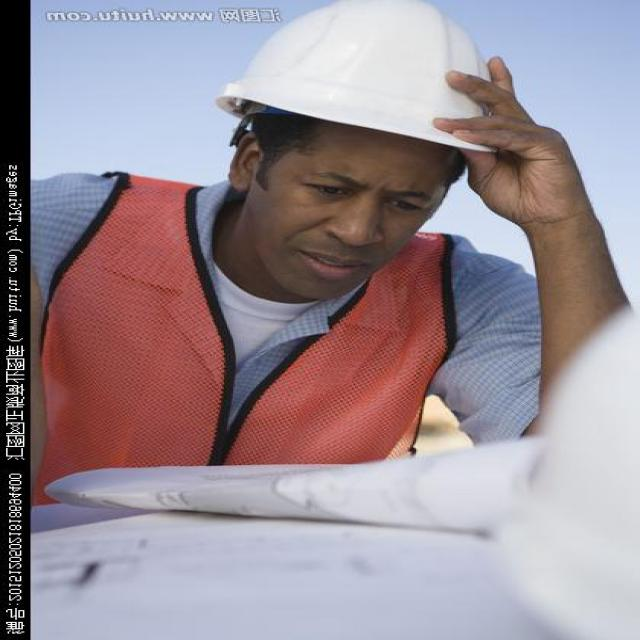Reflective-Jacket: (34, 185, 478, 500)
Safety-Helmet: (216, 3, 497, 155)
